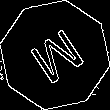M_SE: (22, 21, 88, 89)
